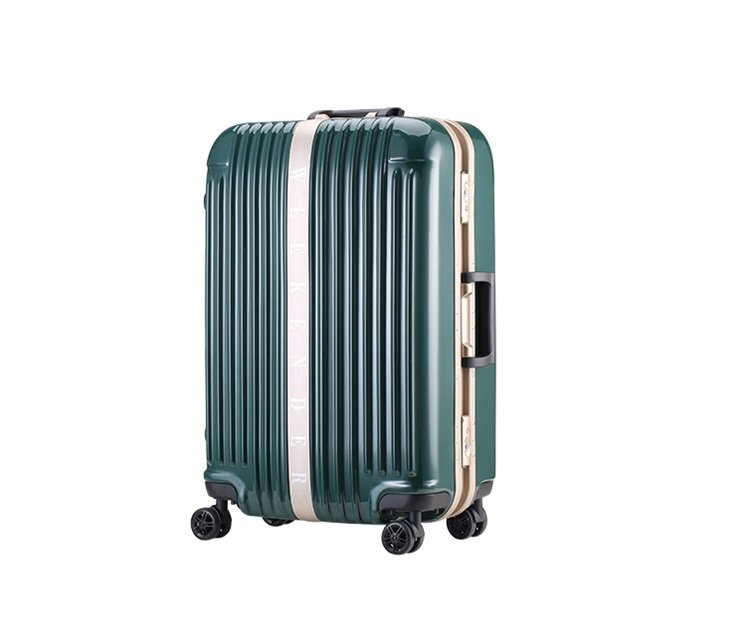luggage: (190, 107, 498, 553)
